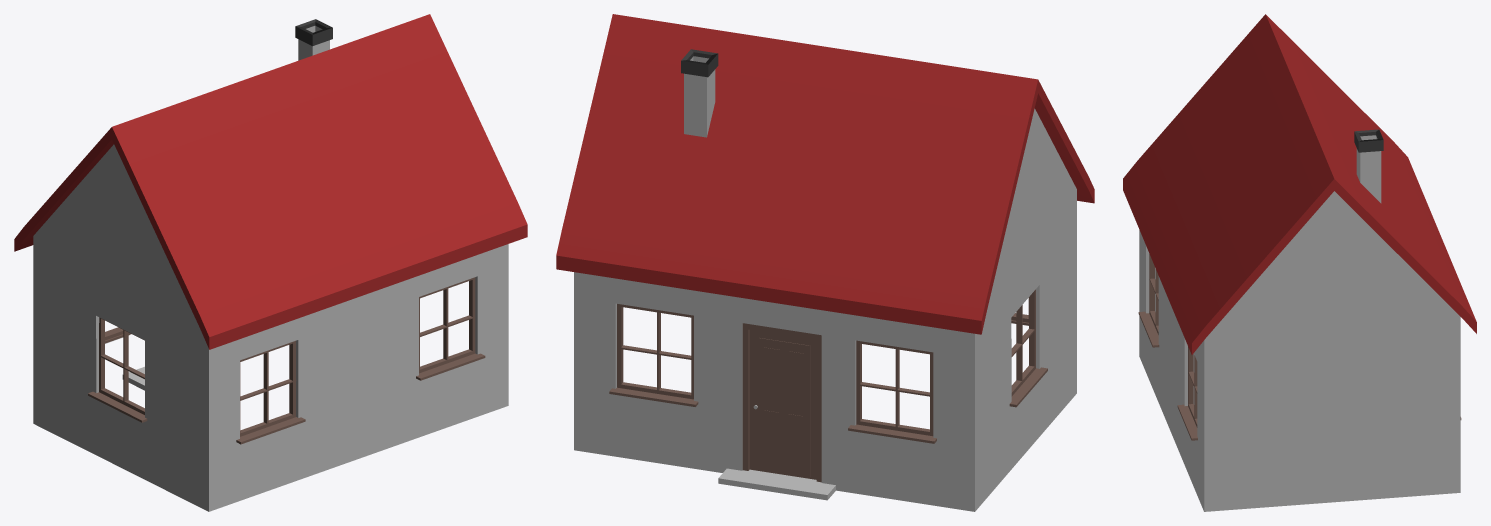
Rendered from building.glb.
The picture shows the model from 3 angles, left to right: view 1: azimuth 30°, elevation 25°; view 2: azimuth 150°, elevation 25°; view 3: azimuth 270°, elevation 25°; orthographic projection. The views are drawn at different scales.
Parts seen in each view (by area): view 1: Box001, Box003; view 2: Box001, Box039, Plane006, Box040, Box002, Box032, Box033, Box035, Box036, Box037, Box038, Box003 (+2 smaller); view 3: Box001, Box002, Box003.
Boxes of the visible parts, left/top/right/bottom form: Box001: left=14, top=14, right=527, bottom=511; Box003: left=295, top=19, right=332, bottom=46; Box001: left=556, top=14, right=1094, bottom=511; Box039: left=758, top=338, right=810, bottom=477; Plane006: left=749, top=330, right=816, bottom=479; Box040: left=718, top=468, right=835, bottom=500; Box002: left=684, top=56, right=715, bottom=137; Box032: left=742, top=328, right=749, bottom=470; Box033: left=816, top=335, right=821, bottom=482; Box035: left=764, top=347, right=779, bottom=399; Box036: left=788, top=351, right=803, bottom=402; Box037: left=788, top=414, right=803, bottom=465; Box038: left=764, top=410, right=779, bottom=461; Box003: left=681, top=49, right=718, bottom=77; Box001: left=1123, top=14, right=1476, bottom=511; Box002: left=1356, top=135, right=1381, bottom=203; Box003: left=1354, top=129, right=1383, bottom=152.
Bounding box in the file's own units: 117 × 97.47 × 94.02.
